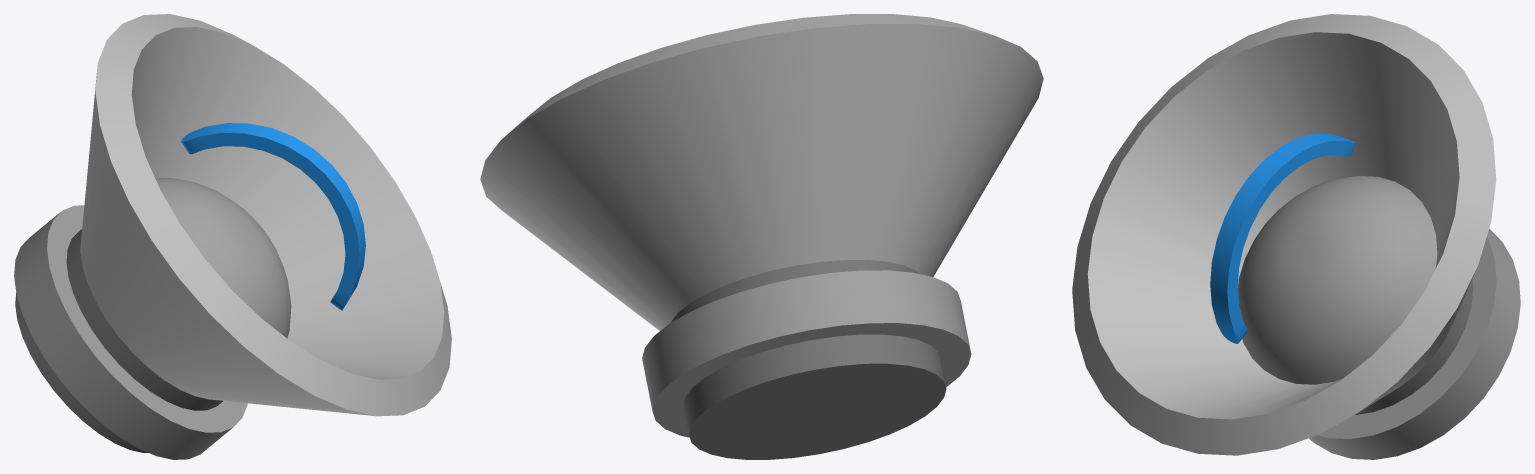
The model's file is speaker_medium_volume.glb.
The picture shows the model from 3 angles, left to right: view 1: azimuth 30°, elevation 25°; view 2: azimuth 150°, elevation 25°; view 3: azimuth 270°, elevation 25°; orthographic projection. The views are drawn at different scales.
Visible parts, largest first — view 1: Circle.2546; view 2: Circle.2546; view 3: Circle.2546.
Part boxes in pixels (x1,y1,x2,y2): Circle.2546: (14, 14, 451, 459); Circle.2546: (480, 14, 1043, 459); Circle.2546: (1072, 14, 1520, 459).
Size of the model in its own units: 2.11 by 2.05 by 2.11.
1 material, 1 textured.
